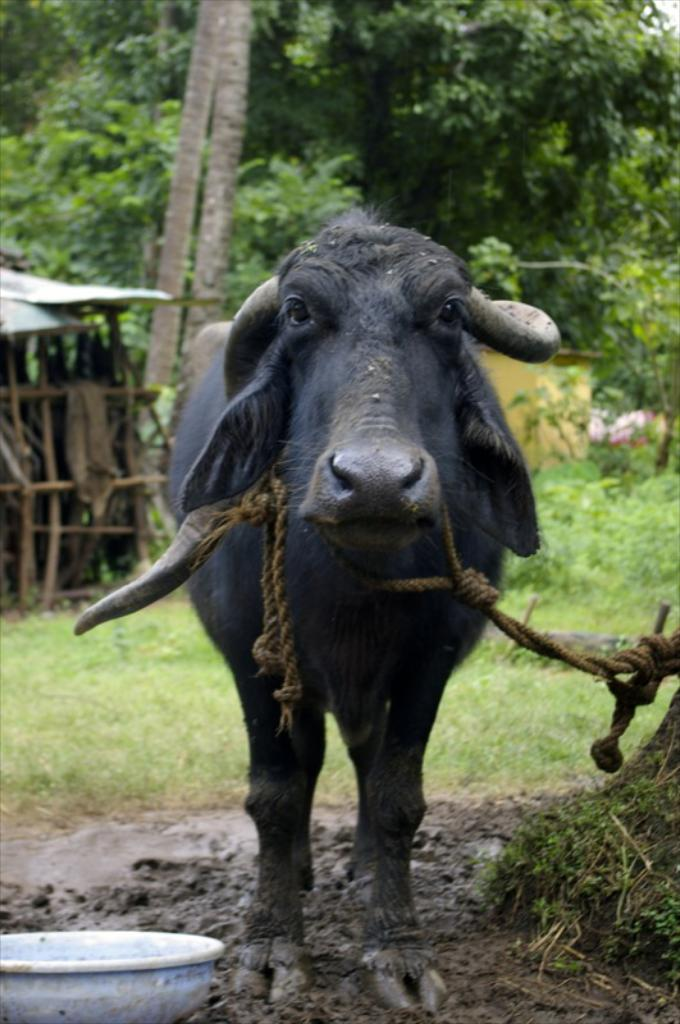Tree: (2, 0, 680, 503), (510, 684, 680, 967)
